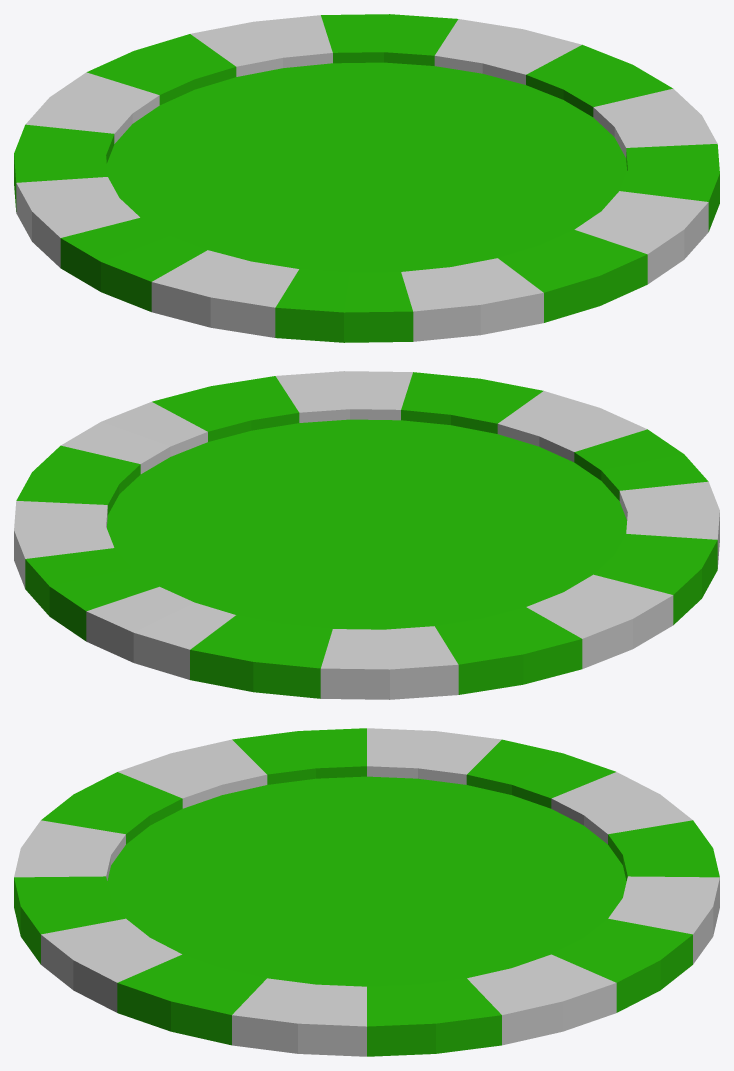
The model's file is PokerChipGreen.fbx.
The picture shows the model from 3 angles, top to bottom: view 1: azimuth 30°, elevation 25°; view 2: azimuth 150°, elevation 25°; view 3: azimuth 270°, elevation 25°; orthographic projection.
Visible parts, largest first — view 1: Cylinder; view 2: Cylinder; view 3: Cylinder.
Part boxes in pixels (x1=…): Cylinder: x1=14, y1=14, x2=719, y2=342; Cylinder: x1=14, y1=371, x2=719, y2=699; Cylinder: x1=14, y1=728, x2=719, y2=1056.
Size of the model in its own units: 2 by 0.0974 by 2.
